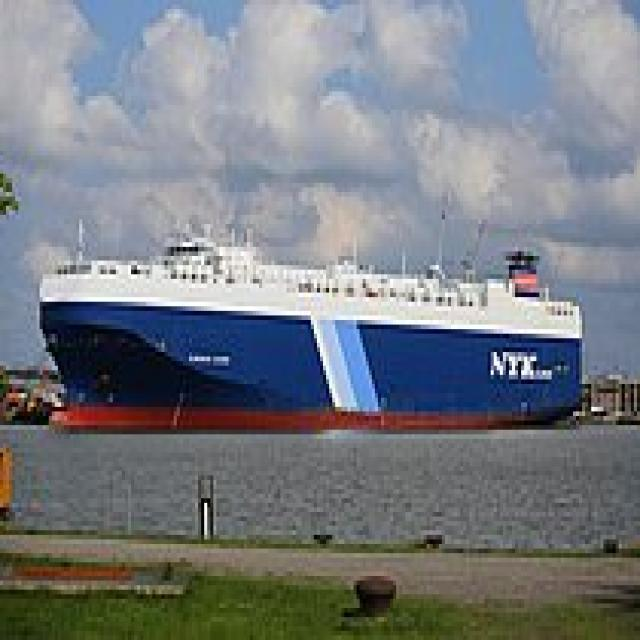Carrier: (34, 206, 585, 430)
